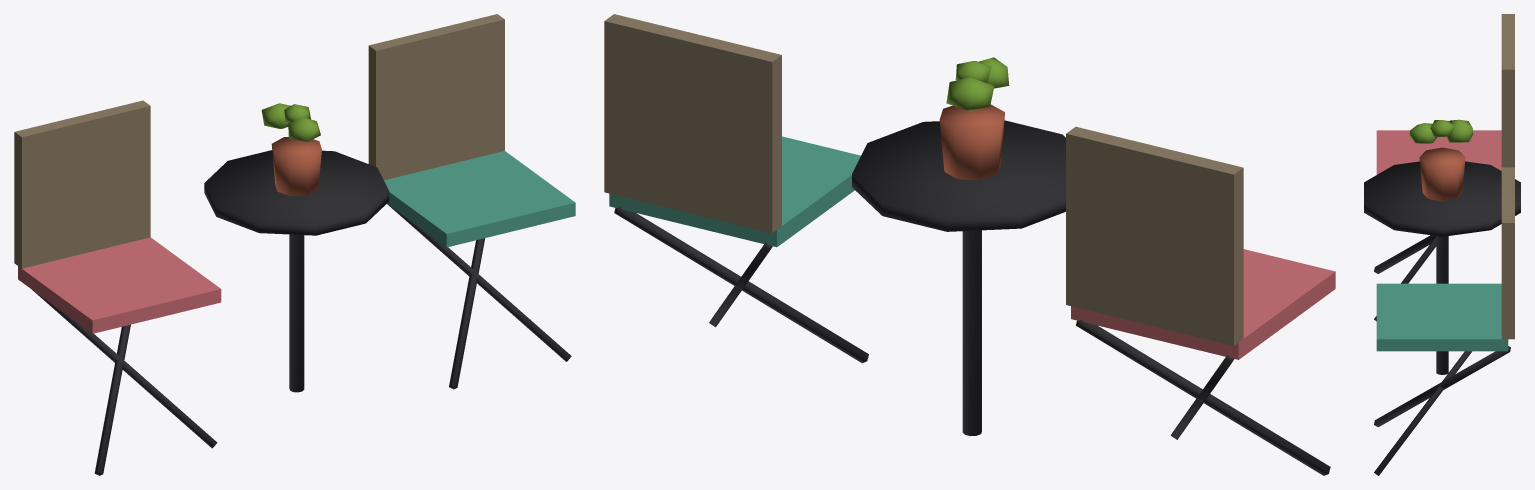
Rendered from city_balcony_chairs.glb.
The picture shows the model from 3 angles, left to right: view 1: azimuth 30°, elevation 25°; view 2: azimuth 150°, elevation 25°; view 3: azimuth 270°, elevation 25°; orthographic projection. The views are drawn at different scales.
Parts seen in each view (by area): view 1: CityBalconyChairs_Back0, CityBalconyChairs_Back1, CityBalconyChairs_Table, CityBalconyChairs_Seat0, CityBalconyChairs_Seat1, CityBalconyChairs_Herbs, CityBalconyChairs_LegB0, CityBalconyChairs_LegB1, CityBalconyChairs_Leaves, CityBalconyChairs_LegA0, CityBalconyChairs_LegA1; view 2: CityBalconyChairs_Back1, CityBalconyChairs_Back0, CityBalconyChairs_Table, CityBalconyChairs_Seat0, CityBalconyChairs_Seat1, CityBalconyChairs_Herbs, CityBalconyChairs_LegA0, CityBalconyChairs_LegA1, CityBalconyChairs_Leaves, CityBalconyChairs_LegB1, CityBalconyChairs_LegB0; view 3: CityBalconyChairs_Seat1, CityBalconyChairs_Table, CityBalconyChairs_Seat0, CityBalconyChairs_Back1, CityBalconyChairs_Back0, CityBalconyChairs_Herbs, CityBalconyChairs_Leaves, CityBalconyChairs_LegA1, CityBalconyChairs_LegB1, CityBalconyChairs_LegA0, CityBalconyChairs_LegB0.
Part boxes in pixels (x1,y1,x2,y2): CityBalconyChairs_Back0: [14, 100, 150, 268]; CityBalconyChairs_Back1: [368, 14, 504, 180]; CityBalconyChairs_Table: [204, 150, 389, 392]; CityBalconyChairs_Seat0: [18, 237, 221, 333]; CityBalconyChairs_Seat1: [384, 151, 575, 247]; CityBalconyChairs_Herbs: [271, 137, 321, 196]; CityBalconyChairs_LegB0: [32, 290, 217, 448]; CityBalconyChairs_LegB1: [387, 204, 571, 361]; CityBalconyChairs_Leaves: [261, 103, 320, 141]; CityBalconyChairs_LegA0: [94, 324, 130, 475]; CityBalconyChairs_LegA1: [449, 238, 485, 389]; CityBalconyChairs_Back1: [604, 14, 781, 232]; CityBalconyChairs_Back0: [1066, 126, 1243, 345]; CityBalconyChairs_Table: [852, 120, 1065, 435]; CityBalconyChairs_Seat0: [1071, 249, 1335, 359]; CityBalconyChairs_Seat1: [609, 136, 860, 247]; CityBalconyChairs_Herbs: [939, 104, 1004, 180]; CityBalconyChairs_LegA0: [1076, 319, 1330, 475]; CityBalconyChairs_LegA1: [614, 207, 868, 363]; CityBalconyChairs_Leaves: [946, 57, 1009, 110]; CityBalconyChairs_LegB1: [709, 242, 772, 327]; CityBalconyChairs_LegB0: [1170, 355, 1234, 439]; CityBalconyChairs_Seat1: [1376, 283, 1508, 351]; CityBalconyChairs_Table: [1364, 161, 1520, 374]; CityBalconyChairs_Seat0: [1376, 130, 1501, 174]; CityBalconyChairs_Back1: [1501, 167, 1514, 339]; CityBalconyChairs_Back0: [1501, 14, 1514, 167]; CityBalconyChairs_Herbs: [1419, 147, 1465, 201]; CityBalconyChairs_Leaves: [1409, 119, 1472, 143]; CityBalconyChairs_LegA1: [1374, 346, 1510, 427]; CityBalconyChairs_LegB1: [1374, 351, 1471, 475]; CityBalconyChairs_LegA0: [1374, 235, 1435, 273]; CityBalconyChairs_LegB0: [1374, 236, 1436, 321].
Bounding box in the file's own units: 1.5 × 0.8595 × 0.4755.
